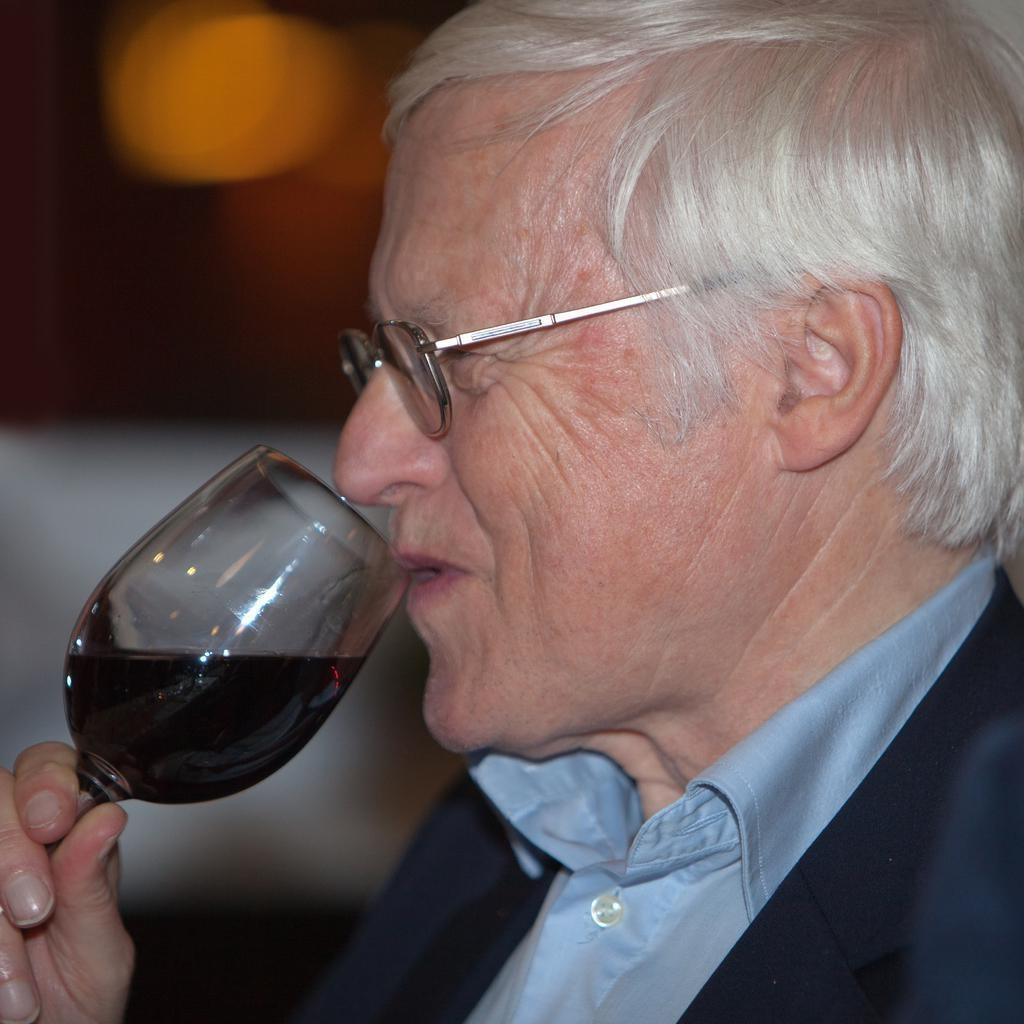glass-wine: (34, 445, 410, 861)
